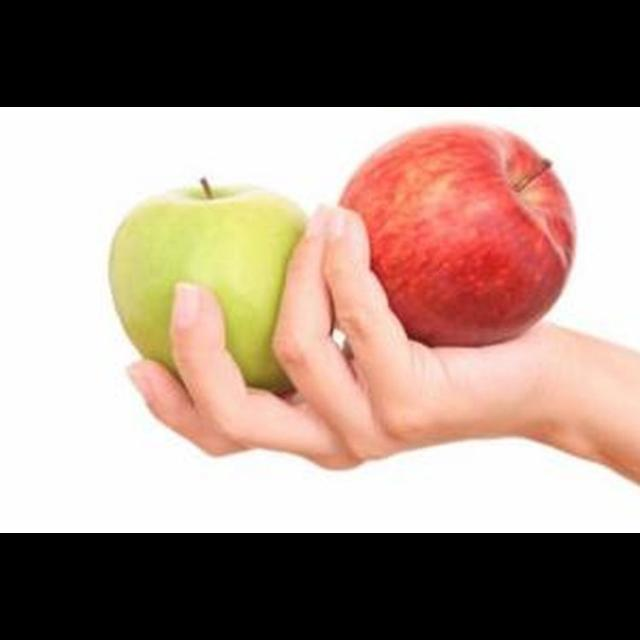Apel Segar: (325, 120, 589, 372), (104, 172, 330, 422)
